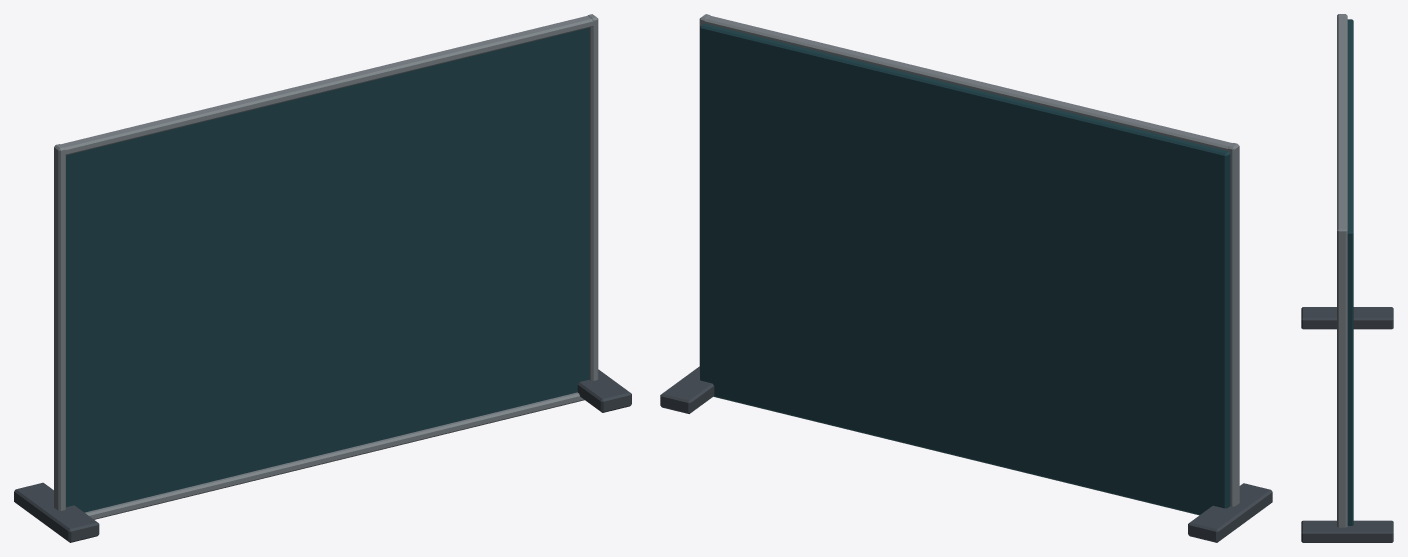
File: PartitionWide.fbx
3 renders of one model, left to right at view 1: azimuth 30°, elevation 25°; view 2: azimuth 150°, elevation 25°; view 3: azimuth 270°, elevation 25°, orthographic. The views are drawn at different scales.
Parts seen in each view (by area): view 1: PartitionWide; view 2: PartitionWide; view 3: PartitionWide.
Boxes of the visible parts, bbox=[...] form: PartitionWide: bbox=[14, 14, 631, 542]; PartitionWide: bbox=[660, 14, 1272, 542]; PartitionWide: bbox=[1301, 14, 1393, 542].
Bounding box in the file's own units: 254 × 164 × 44.
1 material, 1 textured.
